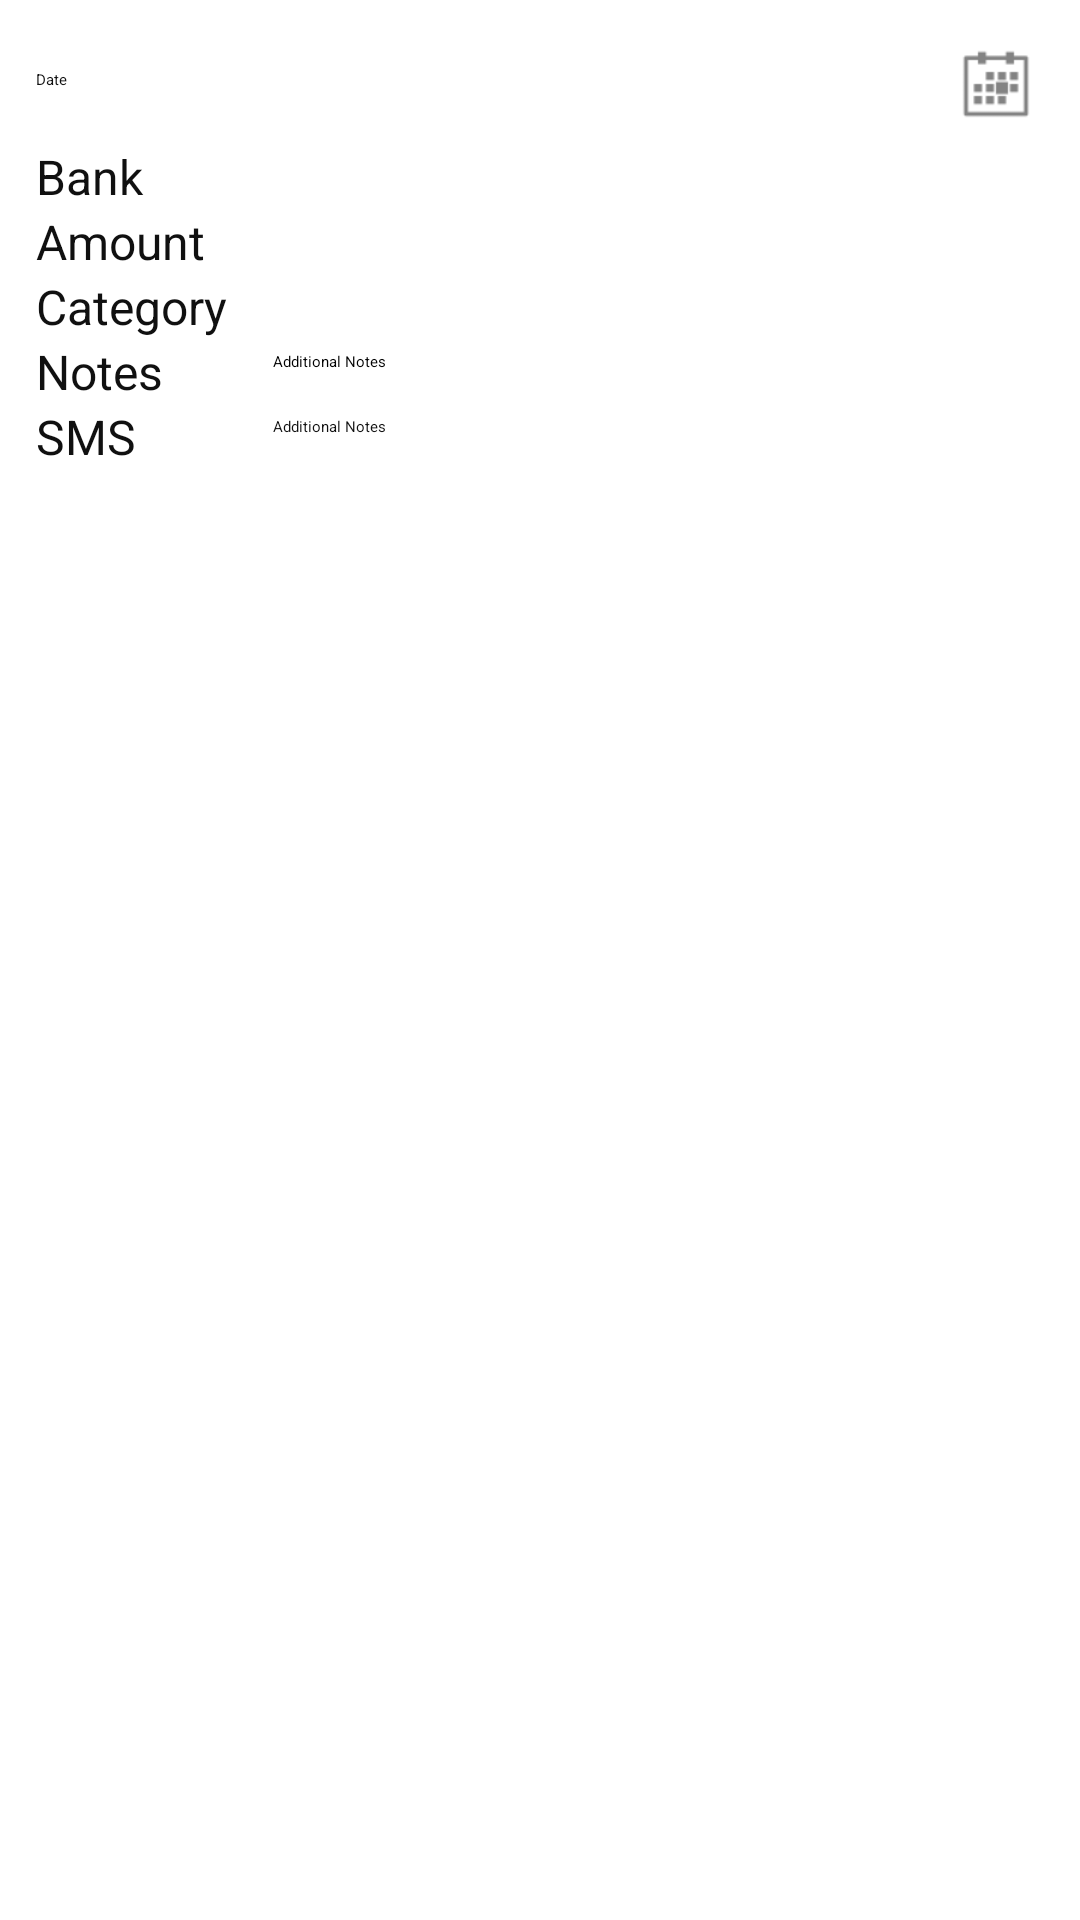

Locate icon controls on the screen. Image size 1080px×1920px, boxes as (x1, y1, x2, y2).
Pick a date: (963, 51, 1029, 117)
